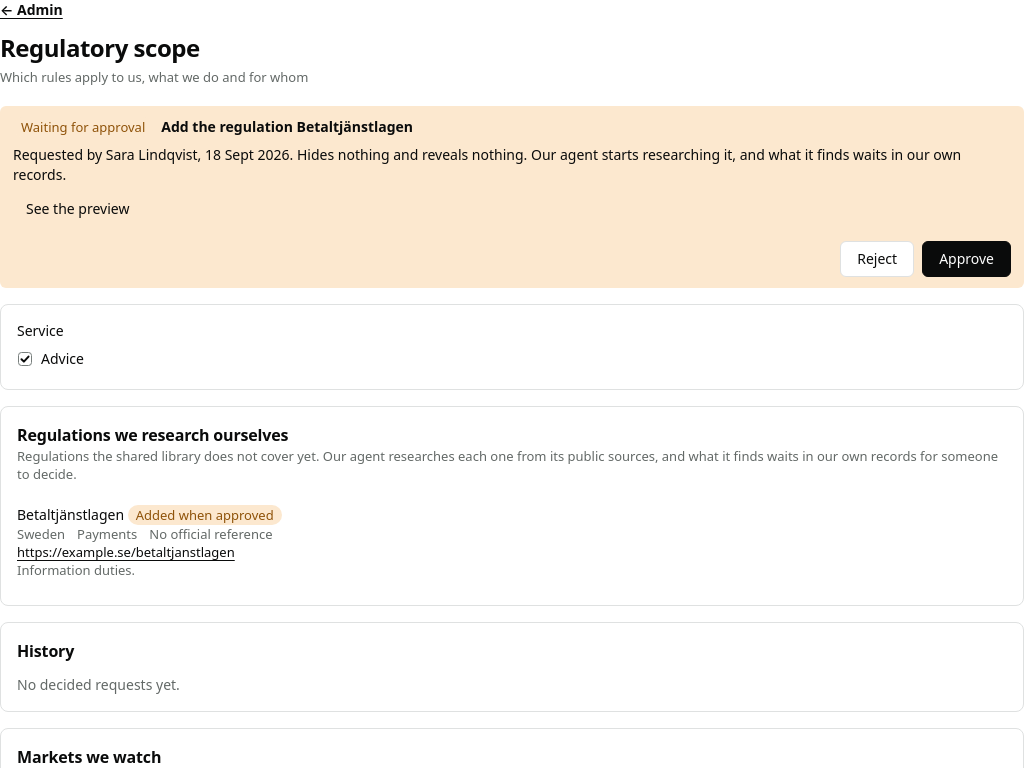
Test: scope items: deciding › approves an added item behind the passkey step-up and names it in the status line
Check: the text "Add the regulation Betaltjänstlagen" is shown, box [161, 117, 413, 137]
Step 1. Click the button "Approve" → click(967, 259), box [922, 241, 1011, 277]
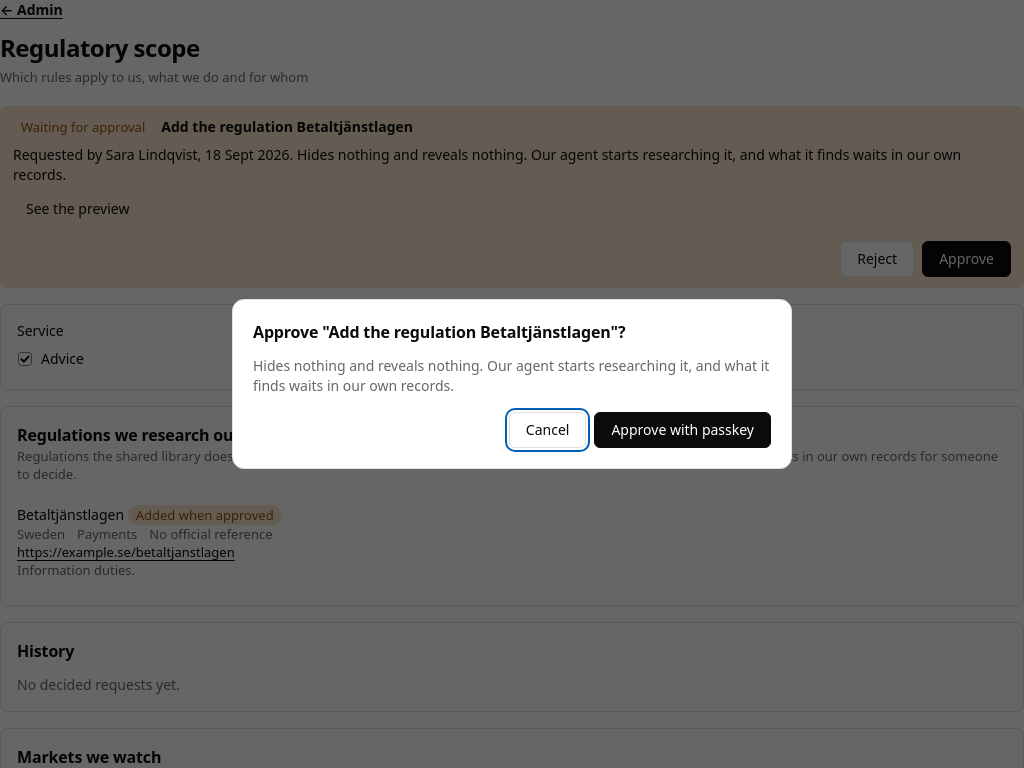
Step 2. Click the button "Approve with passkey" → click(683, 430), box [594, 412, 771, 448]
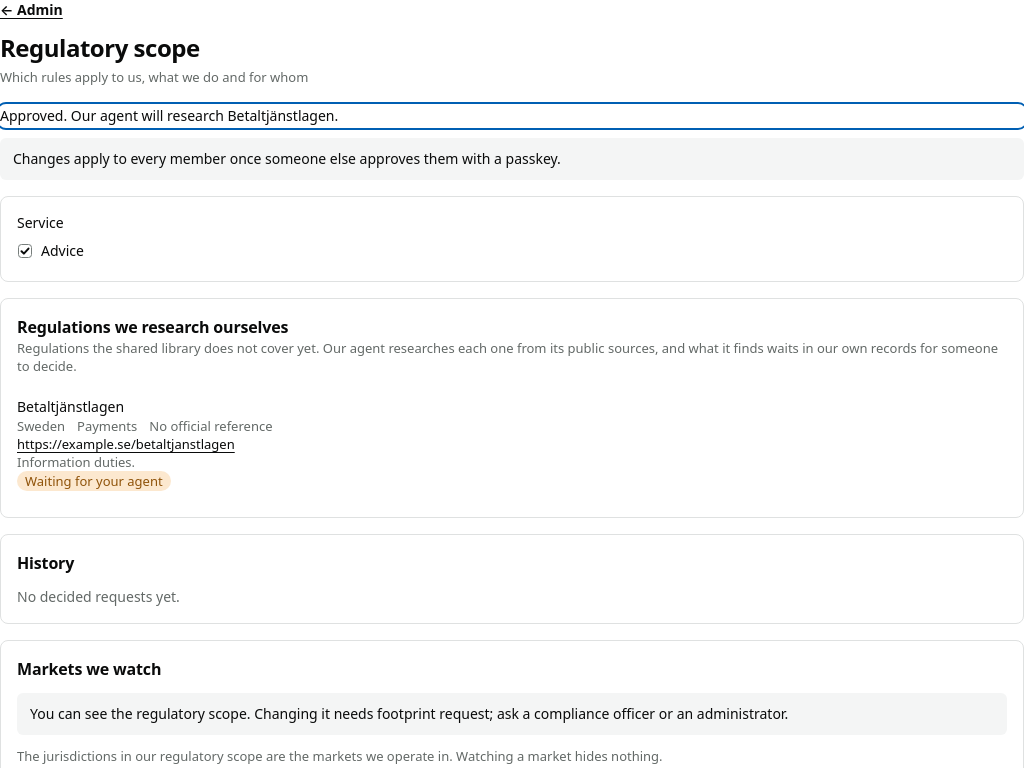
Check: the message "Approved. Our agent will research Betaltjänstlagen." is shown, box [0, 106, 338, 125]
Check: the text "Waiting for your agent" is shown, box [17, 471, 171, 491]
